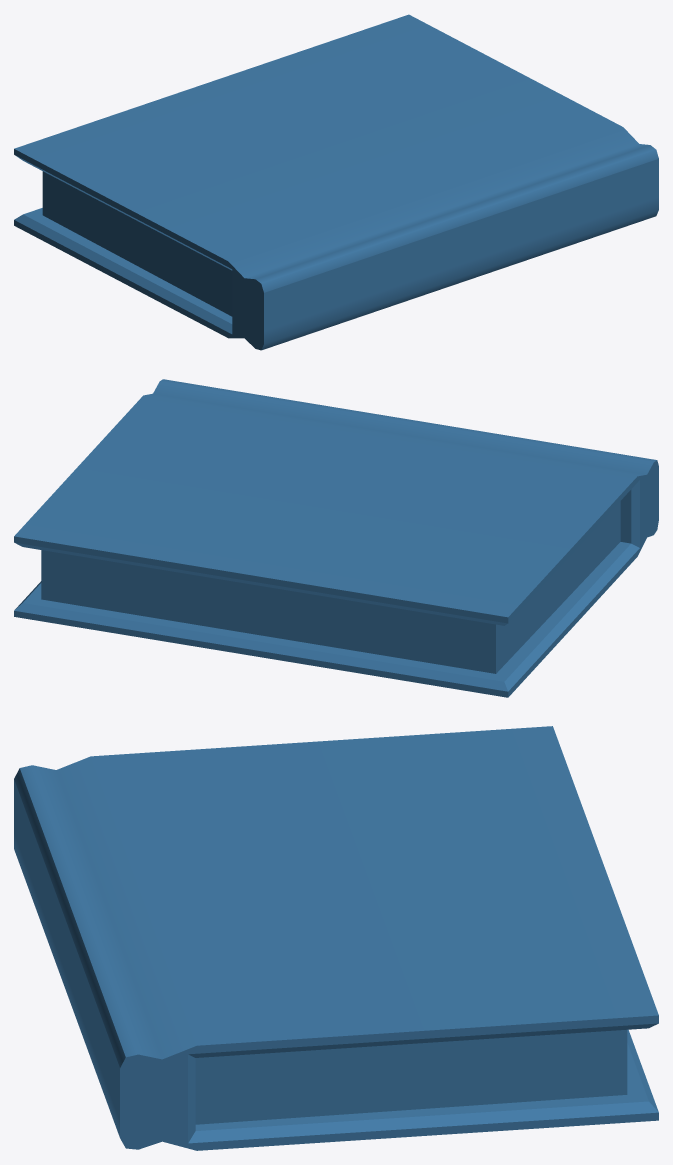
The model's file is book_2 1.fbx.
3 views of the same model, one above another, from view 1: azimuth 30°, elevation 25°; view 2: azimuth 150°, elevation 25°; view 3: azimuth 270°, elevation 25° (orthographic). The views are drawn at different scales.
Visible parts, largest first — view 1: room:pCube71; view 2: room:pCube71; view 3: room:pCube71.
Boxes of the visible parts, x1=… form: room:pCube71: x1=14, y1=14, x2=658, y2=350; room:pCube71: x1=14, y1=379, x2=658, y2=697; room:pCube71: x1=14, y1=726, x2=658, y2=1150.
Bounding box in the file's own units: 271 × 40.96 × 228.
